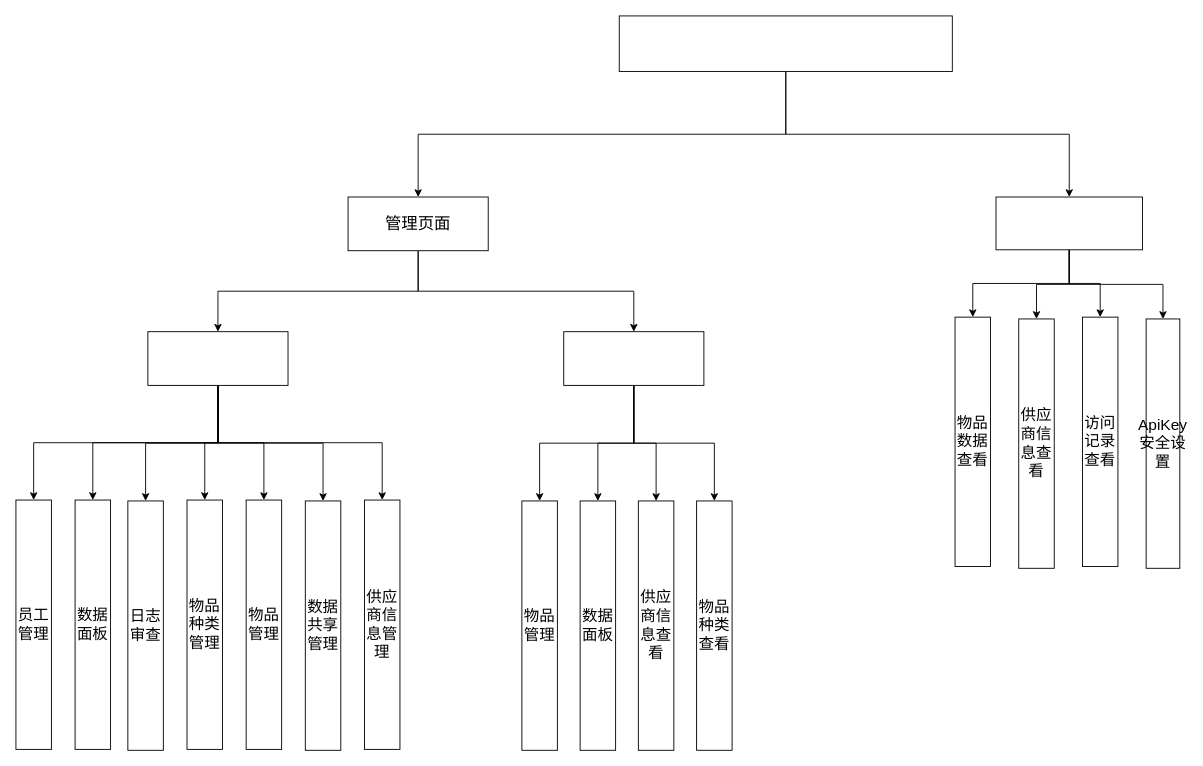
The diagram is 1203 pixels wide and 766 high, and some of its shapes have lost their labels. Here are the shapes that lost their labels. From the top down, the centre of each, then its label:
(x=785, y=43): 基于springboot的web仓库管理系统
(x=1069, y=223): 外部系统
(x=217, y=358): 管理员
(x=633, y=358): 普通员工
